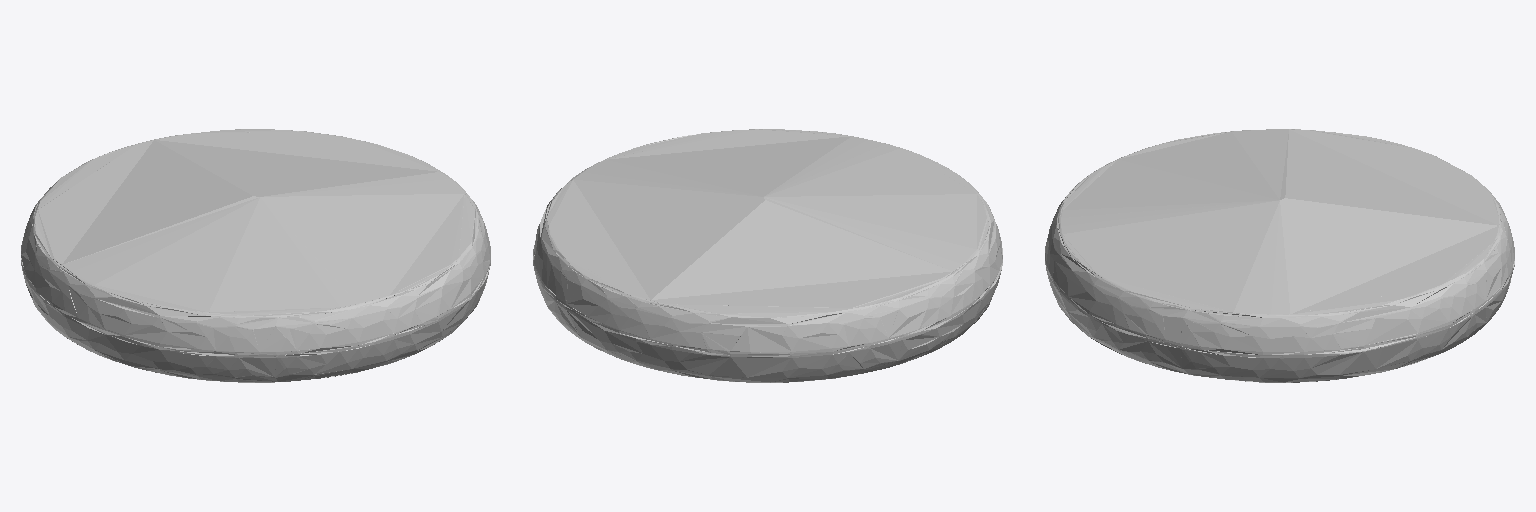
The model's file is wheel_collision.obj.
3 renders of one model, left to right at view 1: azimuth 30°, elevation 25°; view 2: azimuth 150°, elevation 25°; view 3: azimuth 270°, elevation 25°, orthographic.
Visible parts, largest first — view 1: wheel.001; view 2: wheel.001; view 3: wheel.001.
Part boxes in pixels (bbox=[...]): wheel.001: bbox=[21, 129, 490, 382]; wheel.001: bbox=[533, 129, 1002, 382]; wheel.001: bbox=[1045, 129, 1514, 382].
Size of the model in its own units: 0.9418 by 0.2556 by 0.9414.